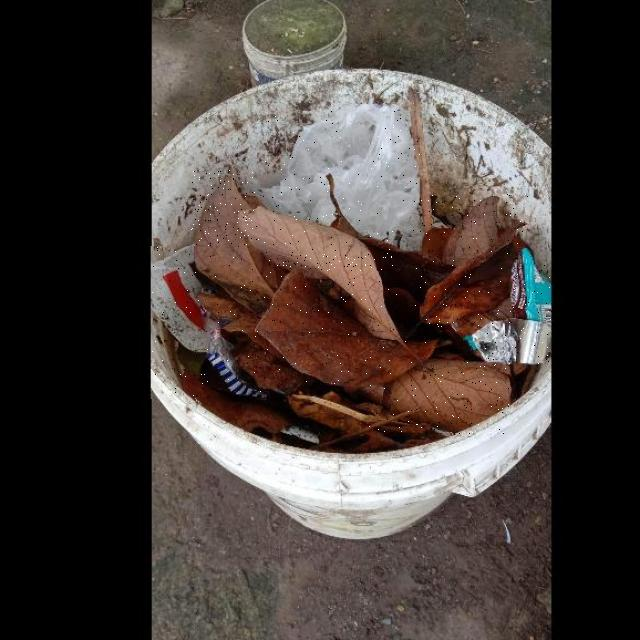biowaste: (253, 271, 439, 388), (241, 210, 396, 342), (417, 194, 528, 329), (191, 170, 268, 321), (369, 358, 510, 434), (195, 299, 277, 358)
plastic: (258, 111, 421, 255)
wrapper: (150, 246, 268, 399), (473, 257, 551, 367)
